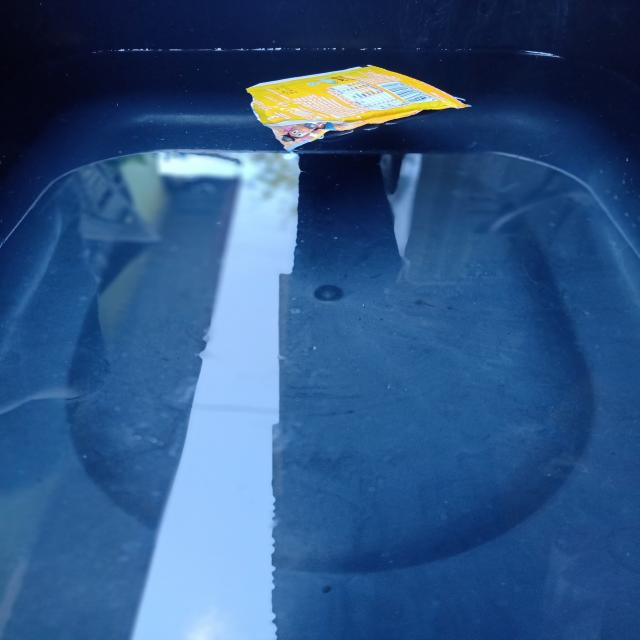Plastic Wrapper: (239, 61, 478, 156)
